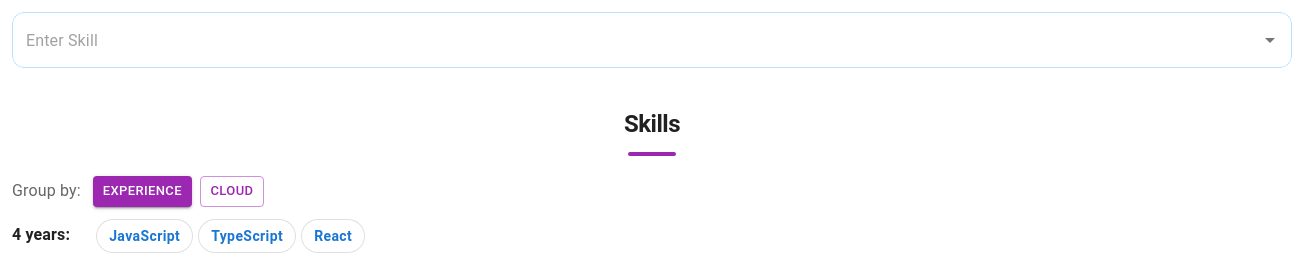
Scenario: SkillsSection Component › Skill Name Filtering › should filter skills by partial match
Type "Script" into the field with placeholder "Enter Skill" at (627,40), box [12,12,1242,68]
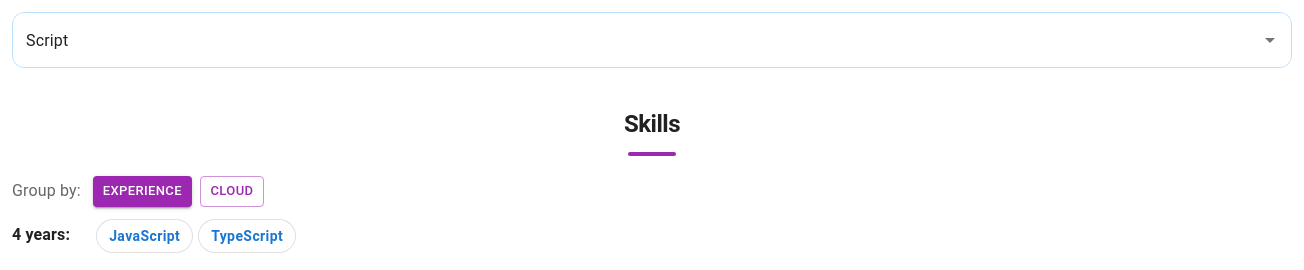
Expected: the button "TypeScript" is shown, [198,219,296,253]
Expected: the button "React" is gone
